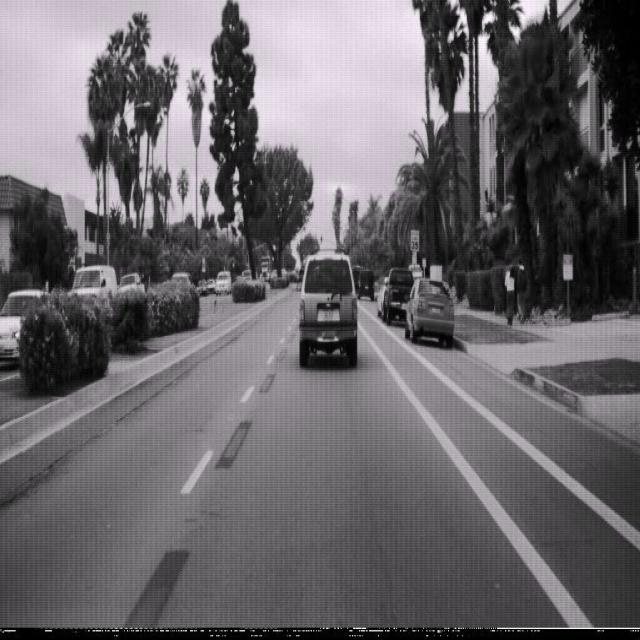speedLimit35: (410, 227, 420, 252)
